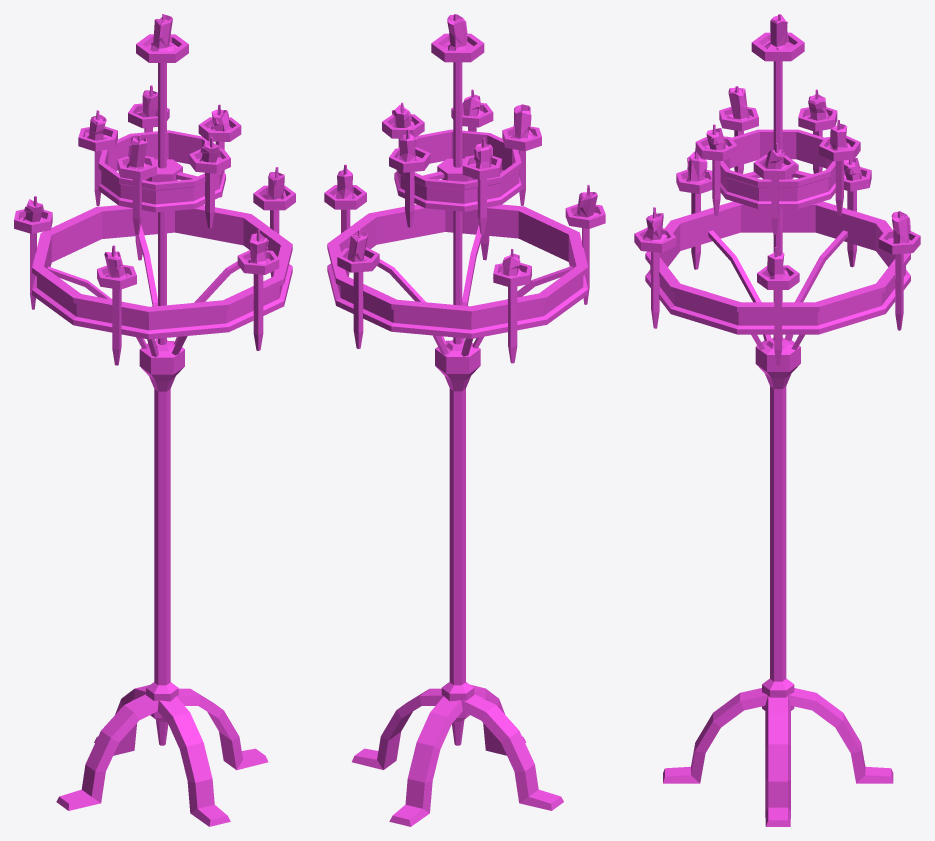
File: SM_Candelabrum_Floor_A_Unlit_Fantasy.fbx
3 renders of one model, left to right at view 1: azimuth 30°, elevation 25°; view 2: azimuth 150°, elevation 25°; view 3: azimuth 270°, elevation 25°, orthographic.
Visible parts, largest first — view 1: SM_Candelabrum_Floor_A_Unlit_Fantasy; view 2: SM_Candelabrum_Floor_A_Unlit_Fantasy; view 3: SM_Candelabrum_Floor_A_Unlit_Fantasy.
Boxes of the visible parts, left/top/right/bottom form: SM_Candelabrum_Floor_A_Unlit_Fantasy: left=14, top=14, right=295, bottom=826; SM_Candelabrum_Floor_A_Unlit_Fantasy: left=324, top=14, right=605, bottom=826; SM_Candelabrum_Floor_A_Unlit_Fantasy: left=634, top=14, right=920, bottom=826.
Bounding box in the file's own units: 0.8593 × 2.64 × 0.8951.
